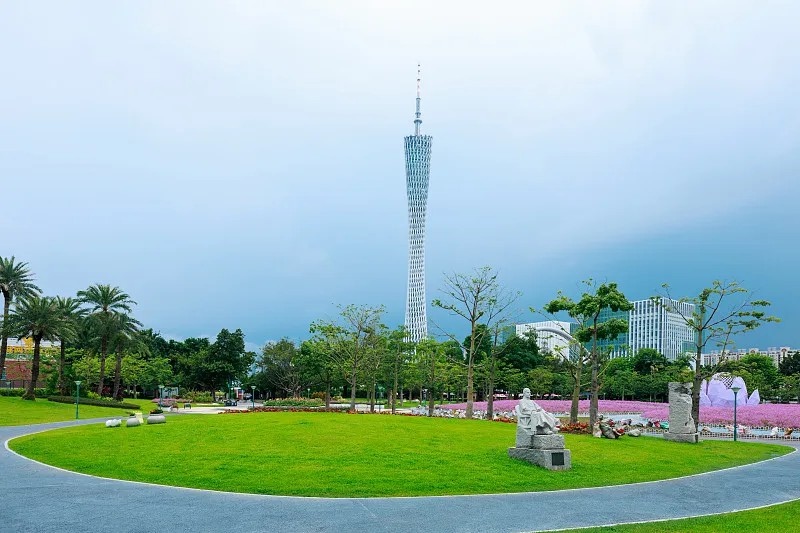Canton: (404, 63, 431, 342)
